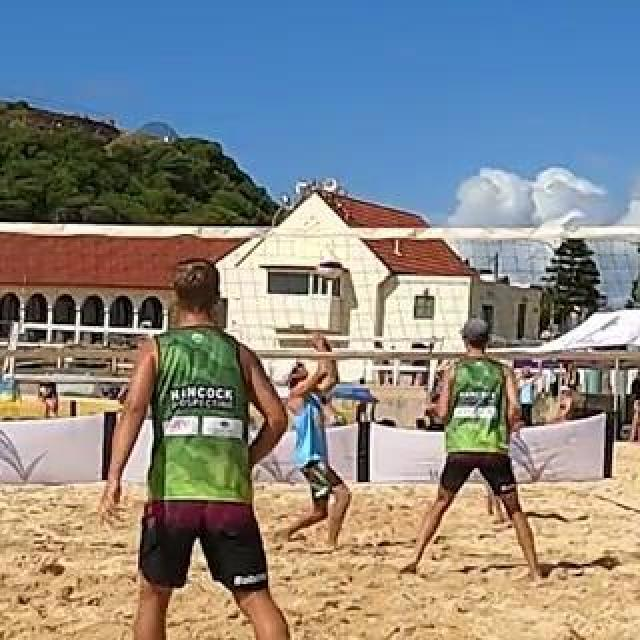volleyball: (318, 255, 344, 281)
